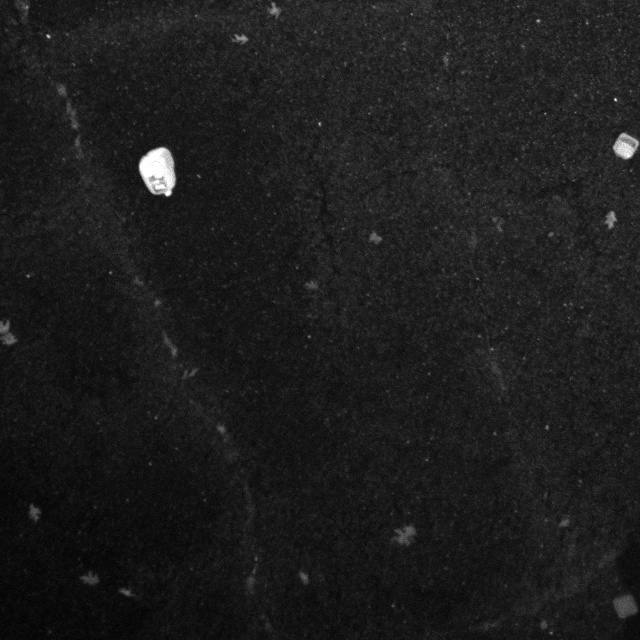can: (131, 143, 180, 207)
